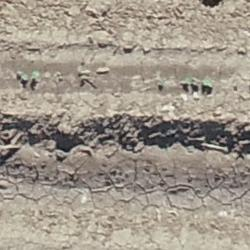cotton: (32, 71, 39, 79), (204, 80, 212, 87), (20, 75, 27, 80), (186, 76, 191, 83), (193, 80, 198, 85), (159, 80, 163, 85)
